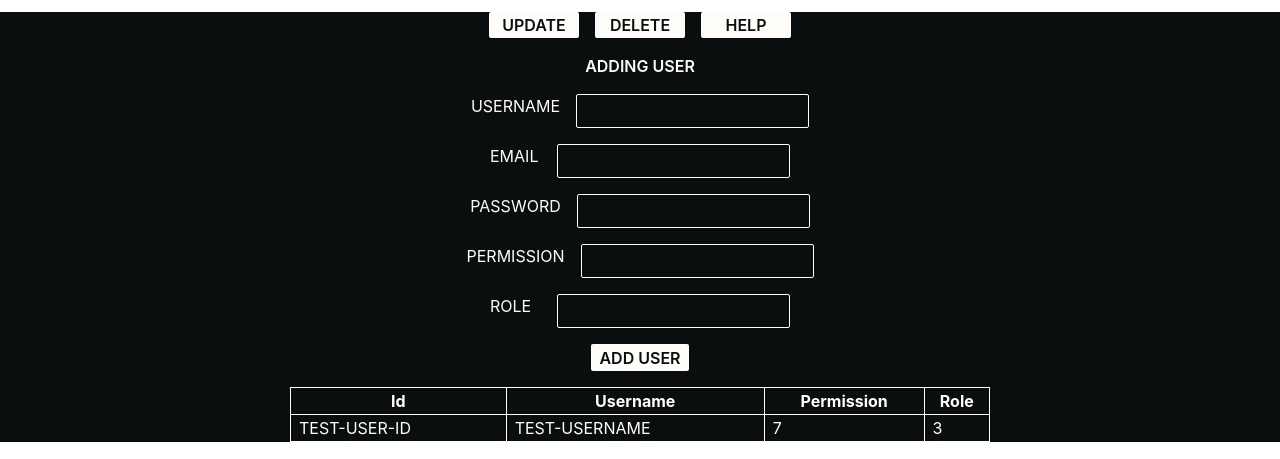
Test: Admin Dash › Should show update form after update button click
Click the button with test id "dashboard-update-menu-button" at coordinates (534, 25), box [489,12,579,38]
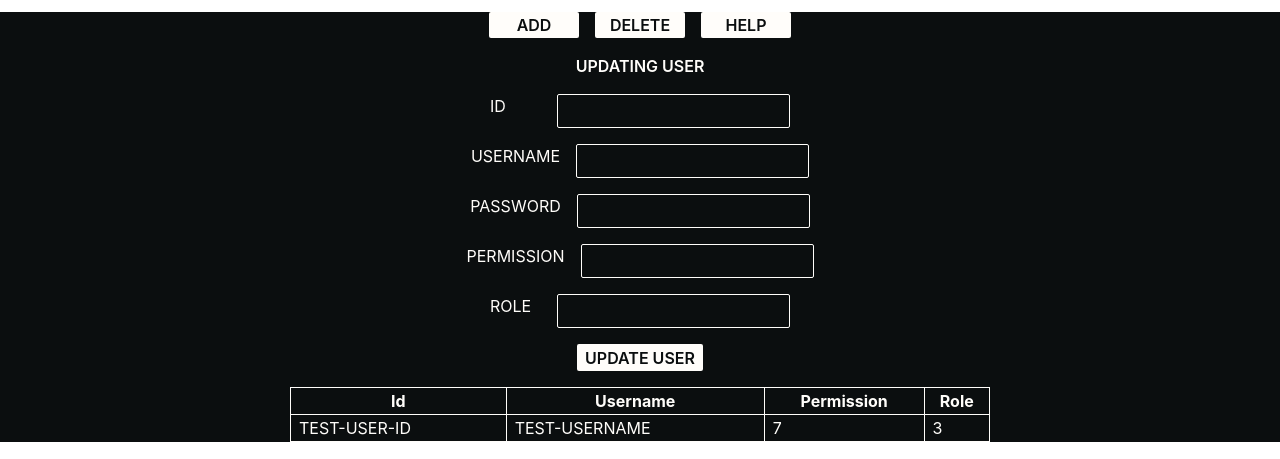
Result: the element with test id "admin-dash-update-user-container" is shown at [466,54,814,371]
